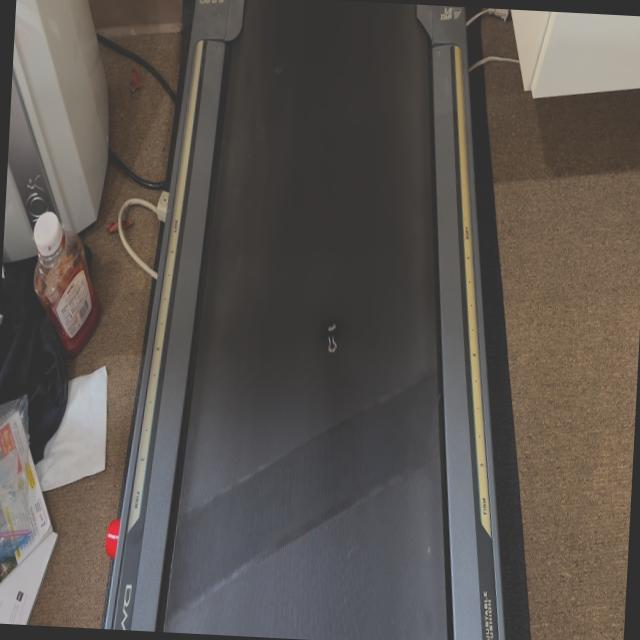Trash: (322, 317, 338, 356)
